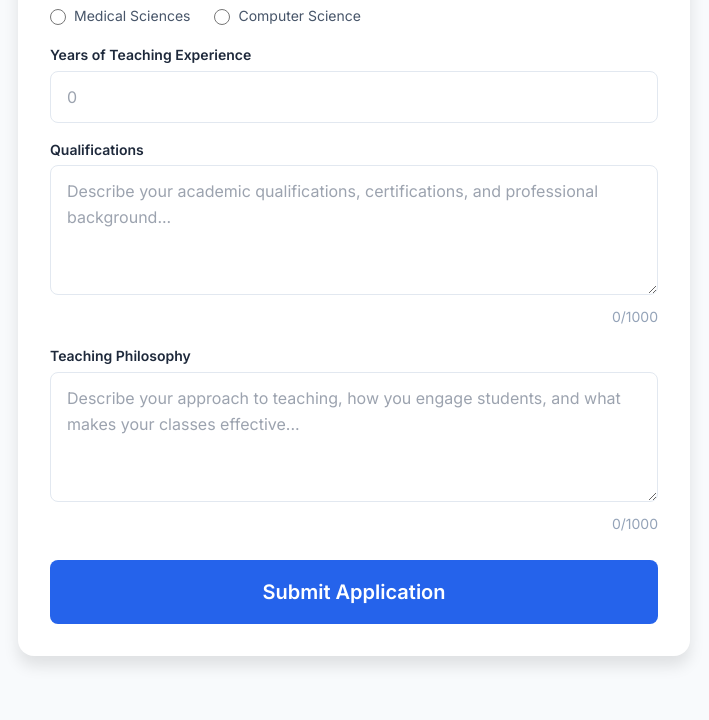
it: BecomeATeacher › shows a name validation error when submitted empty
This screenshot has width=709, height=720.
(page scrolled)
Click the button "Submit Application".
click(354, 592)  # box 50,560 -> 658,624
(page scrolled)
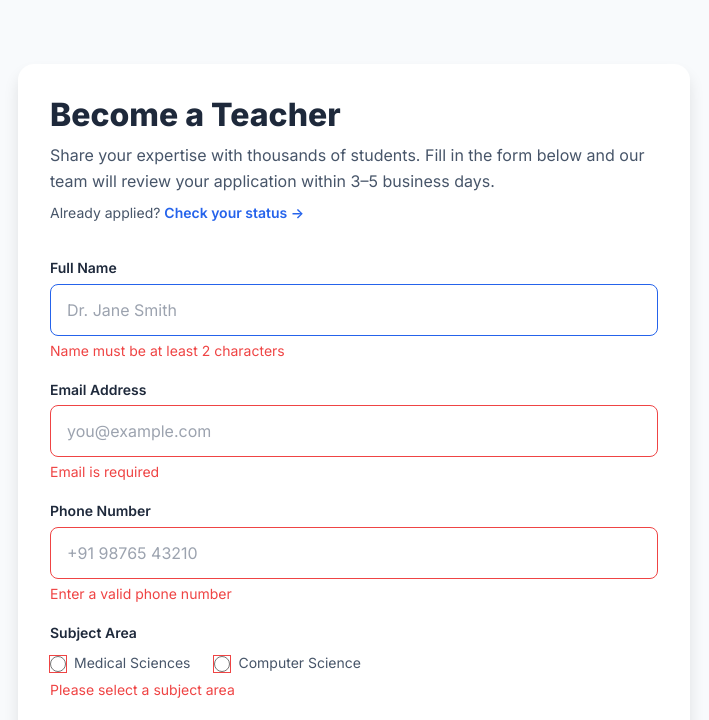
Check: the text "Name must be at least 2 characters" is shown, box 50,342 -> 285,359
